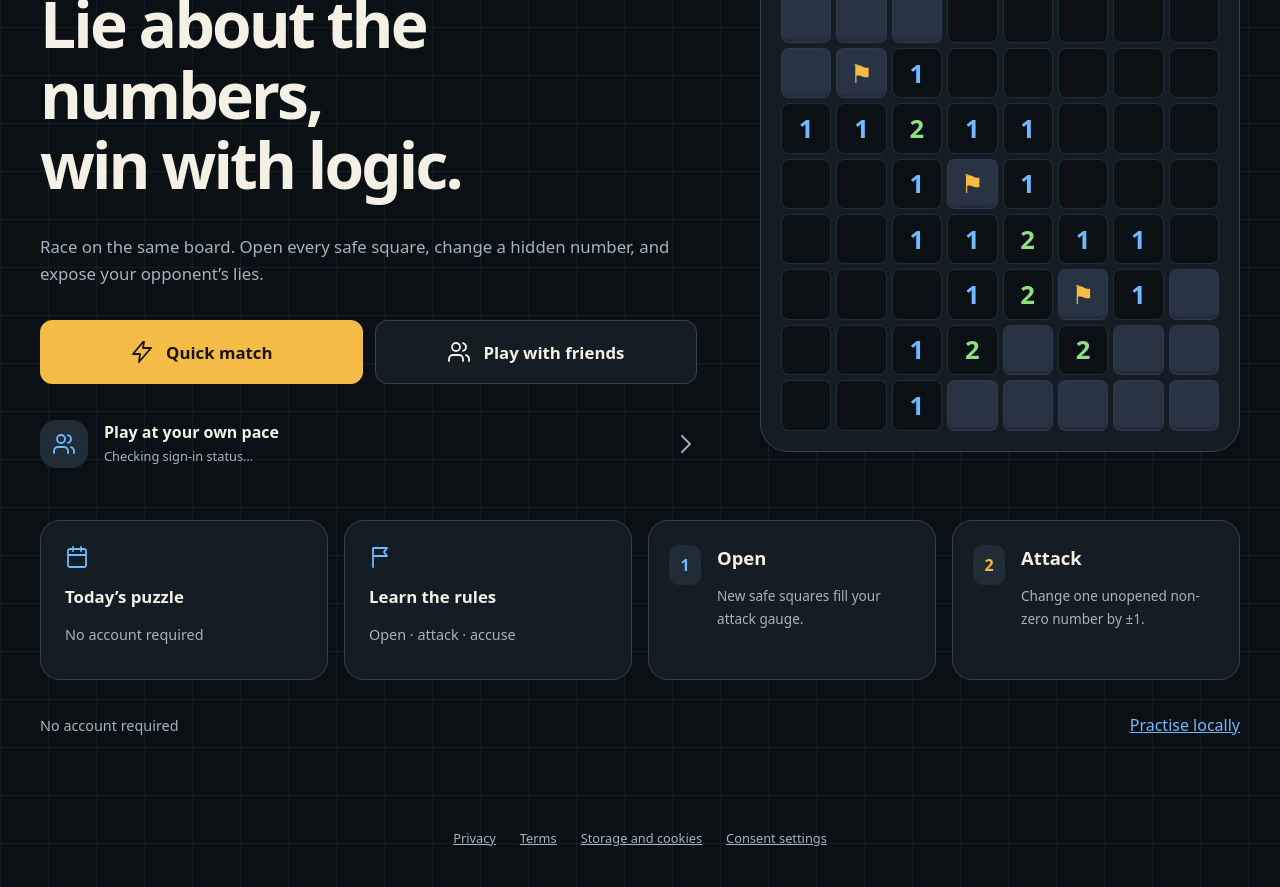
Test: en renders each purpose and clearing boundary in its own locale
The width and height of the screenshot is (1280, 887).
(page scrolled)
Step 1. Click the link "Storage and cookies" → (641, 838), box [581,829,702,847]
(page scrolled)
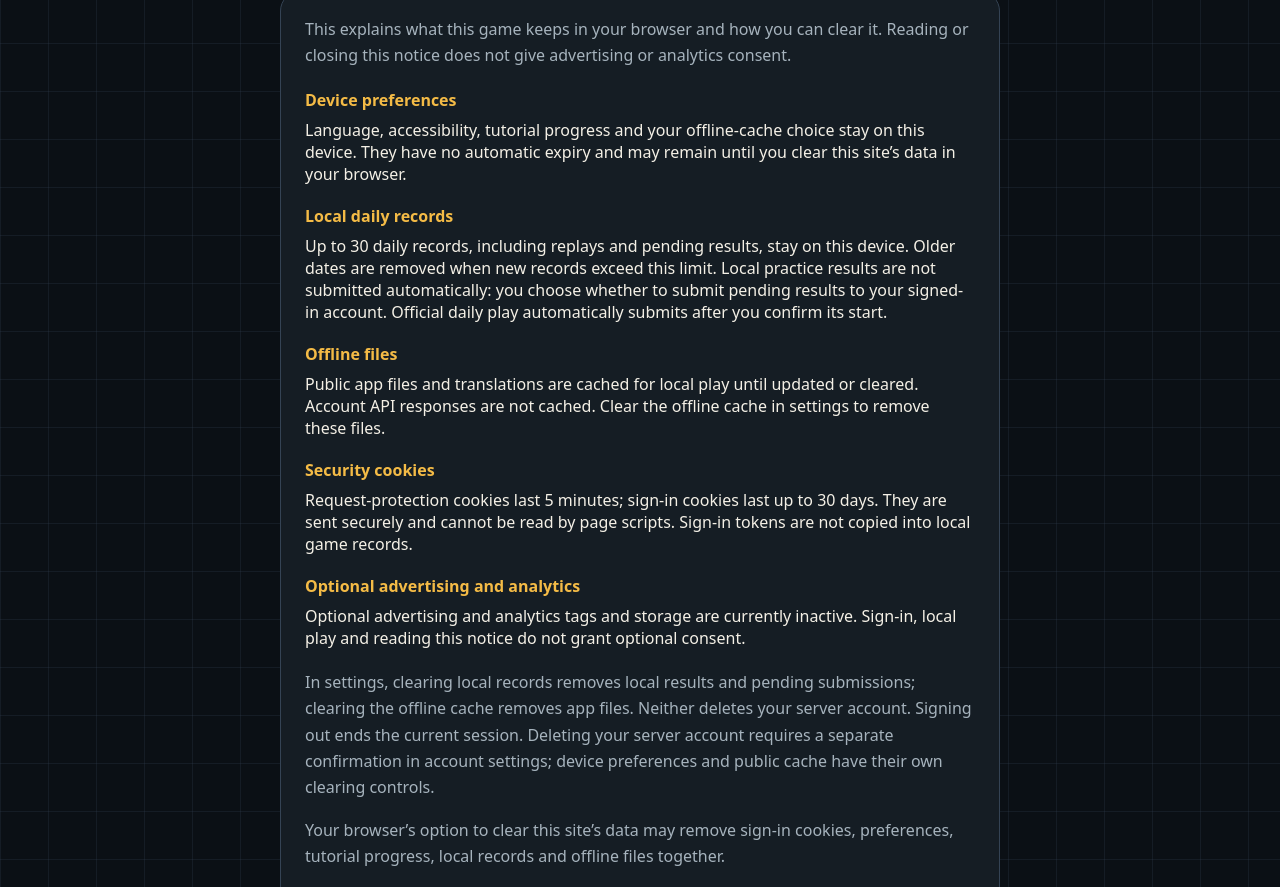
Now the text "Device preferences" is shown, box [305,89,456,111]
Now the text "Language, accessibility, tutorial progress and your offline-cache choice stay on this device. They have no automatic exp" is shown, box [305,119,956,185]
Now the text "Local daily records" is shown, box [305,205,453,227]
